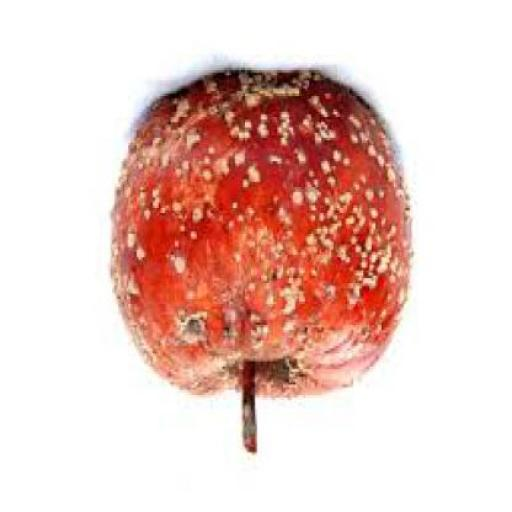biodegradable: (109, 73, 412, 457)
